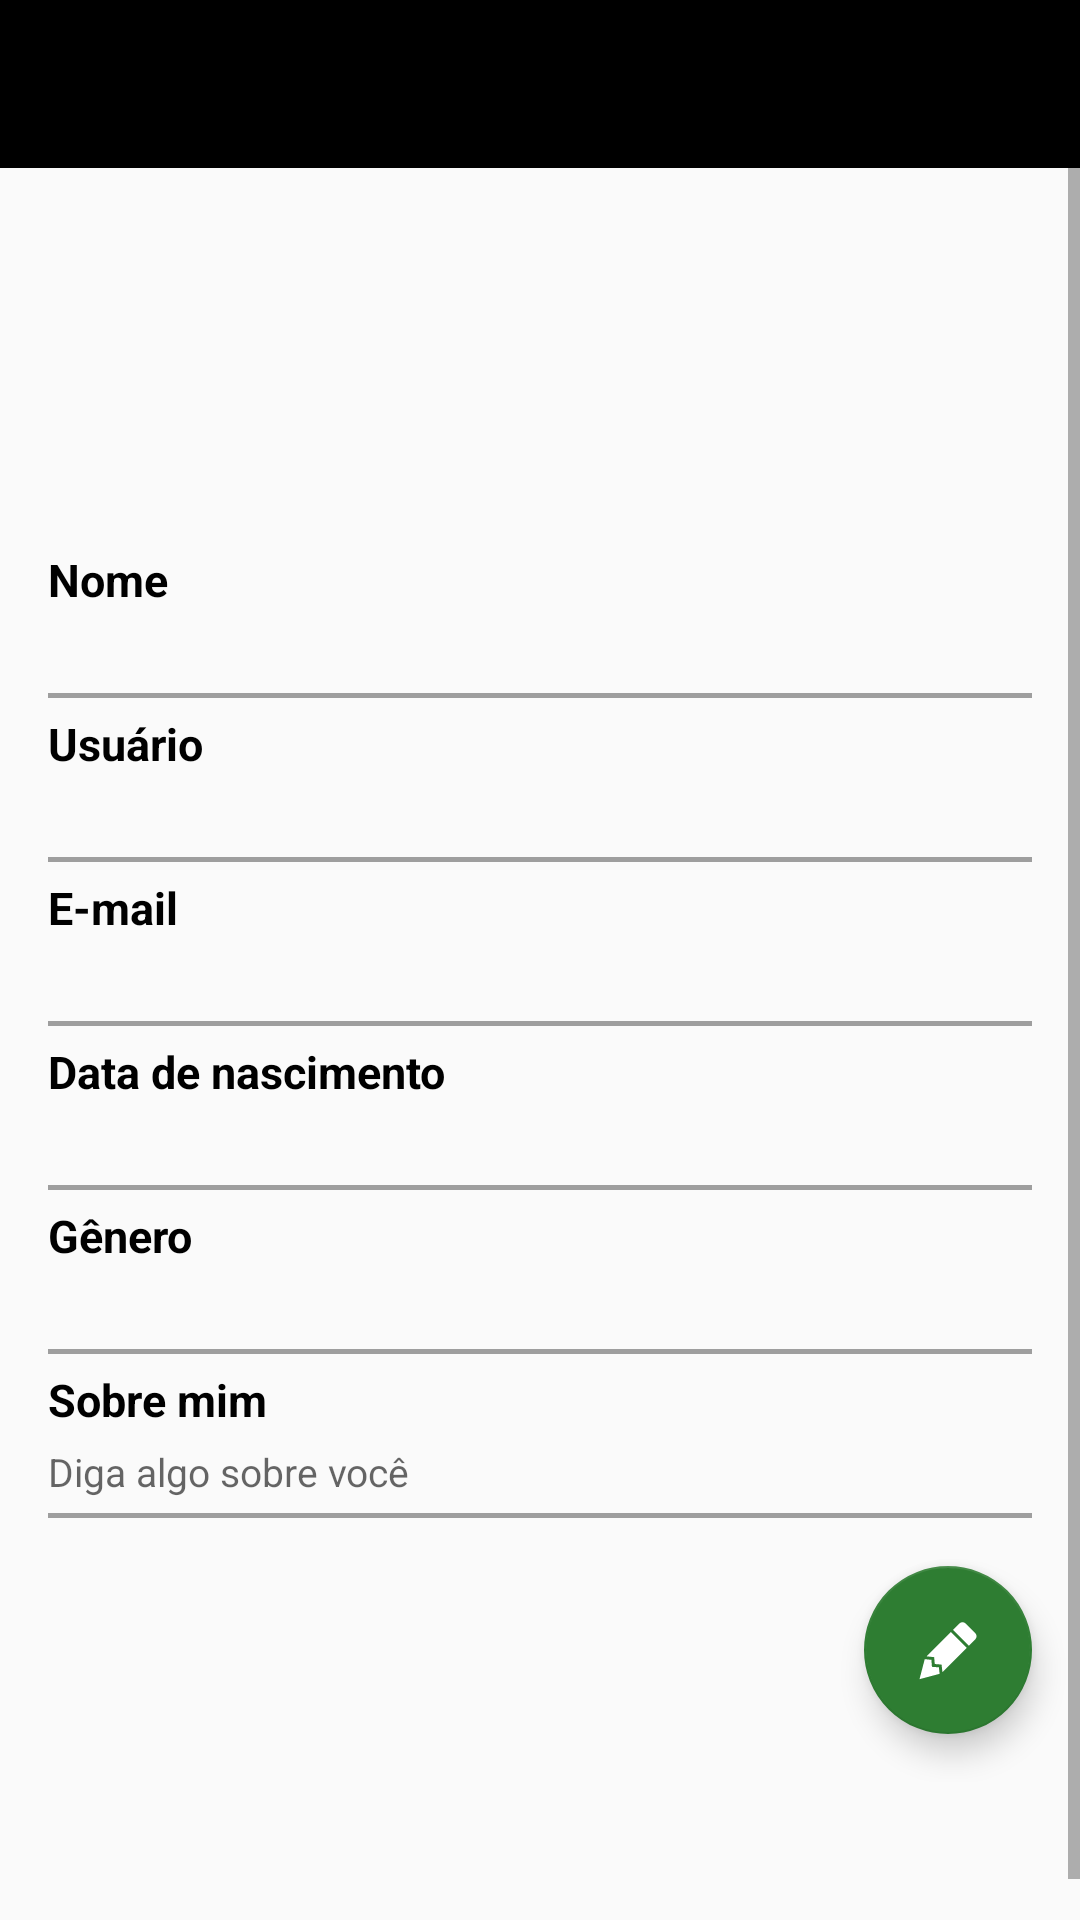

Where icons sit on this 1080*1920 app screen, as (x1, y1, x2, y2):
lead pencil: (864, 1566, 1032, 1734)
